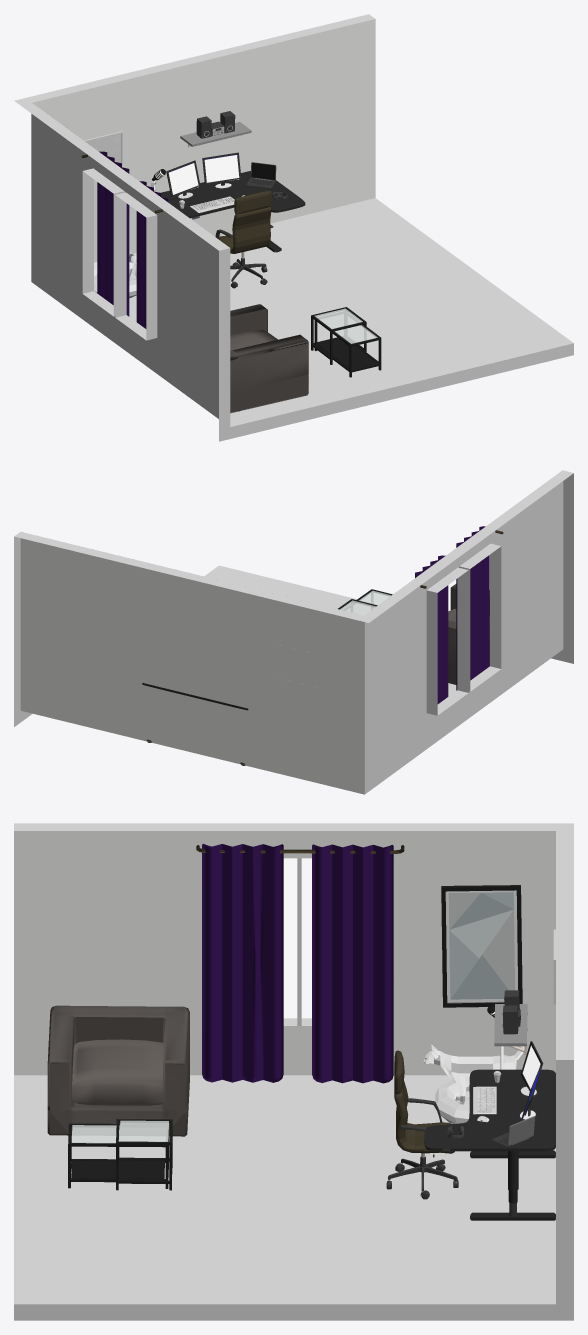
3 views of the same model, one above another, from view 1: azimuth 30°, elevation 25°; view 2: azimuth 150°, elevation 25°; view 3: azimuth 270°, elevation 25° (orthographic). The views are drawn at different scales.
Visible parts, largest first — view 1: Plane, Couch, Curtains, Table, Chair, Desk, Monitor2, Monitor1, Speakers, Corkboard, Laptop, Shelf; view 2: Plane, Curtains, Couch, Table; view 3: Plane, Curtains, Couch, Art, Desk, Table, Chair, Cat, Catbed, Shelf, Speakers, Monitor1 (+2 smaller).
Boxes of the visible parts, bbox=[...] form: Plane: bbox=[14, 14, 573, 441]; Couch: bbox=[230, 304, 308, 413]; Curtains: bbox=[81, 151, 168, 328]; Table: bbox=[311, 307, 381, 377]; Chair: bbox=[215, 191, 273, 288]; Desk: bbox=[160, 171, 305, 252]; Monitor2: bbox=[202, 152, 241, 189]; Monitor1: bbox=[166, 160, 200, 199]; Speakers: bbox=[196, 111, 235, 138]; Corkboard: bbox=[84, 131, 122, 164]; Laptop: bbox=[246, 162, 276, 187]; Shelf: bbox=[180, 122, 251, 146]; Plane: bbox=[14, 470, 573, 794]; Curtains: bbox=[415, 526, 503, 703]; Couch: bbox=[448, 584, 489, 684]; Table: bbox=[338, 589, 392, 615]; Plane: bbox=[14, 823, 573, 1320]; Curtains: bbox=[196, 843, 404, 1083]; Couch: bbox=[47, 1005, 189, 1136]; Art: bbox=[441, 885, 522, 1007]; Desk: bbox=[424, 1069, 555, 1220]; Table: bbox=[68, 1119, 172, 1190]; Chair: bbox=[386, 1050, 458, 1199]; Cat: bbox=[423, 1044, 524, 1104]; Catbed: bbox=[435, 1080, 469, 1123]; Shelf: bbox=[494, 1004, 527, 1055]; Speakers: bbox=[502, 990, 520, 1034]; Monitor1: bbox=[520, 1041, 543, 1097].
Size of the model in its own units: 5.95 by 3.06 by 5.95.
